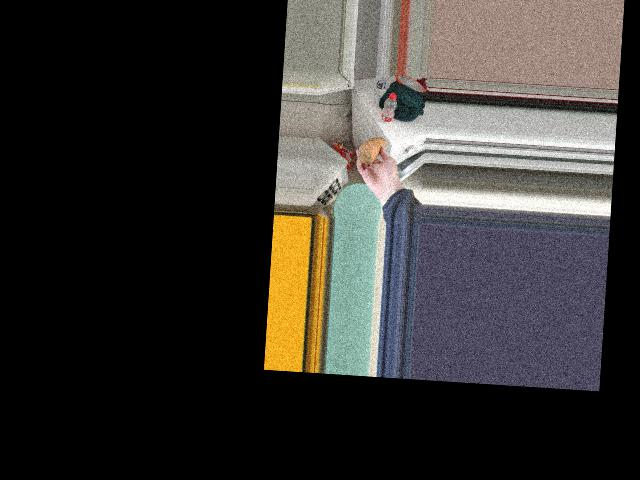sweet_potato: (360, 135, 389, 169)
